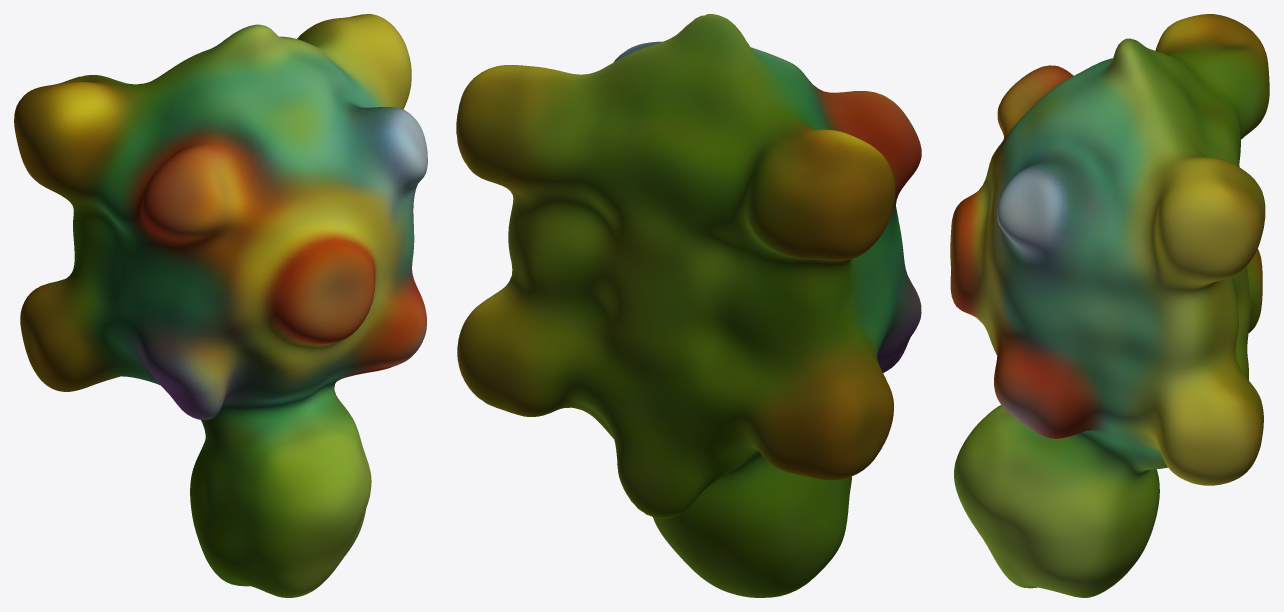
The model's file is turtle.glb.
3 views of the same model, side by side, from view 1: azimuth 30°, elevation 25°; view 2: azimuth 150°, elevation 25°; view 3: azimuth 270°, elevation 25° (orthographic). The views are drawn at different scales.
Bounding box in the file's own units: 0.7337 × 0.999 × 0.5235.
